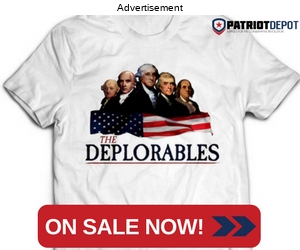fake_button: (31, 199, 265, 250)
